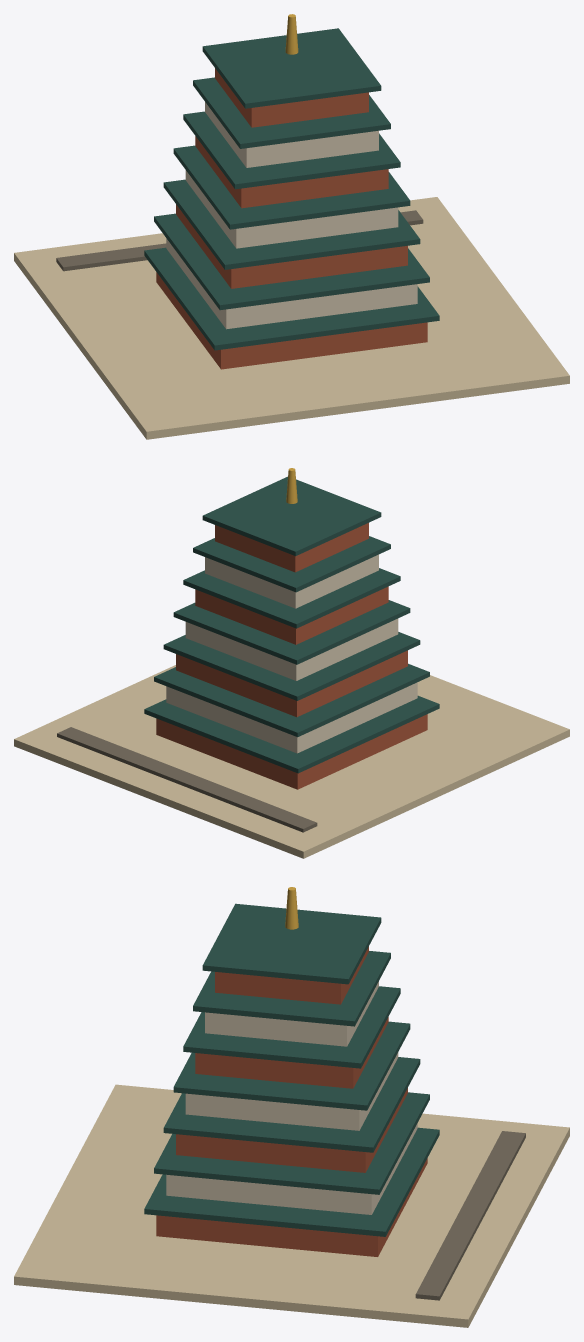
The model's file is model-medium.glb.
3 renders of one model, top to bottom at view 1: azimuth 30°, elevation 25°; view 2: azimuth 150°, elevation 25°; view 3: azimuth 270°, elevation 25°, orthographic. The views are drawn at different scales.
Parts seen in each view (by area): view 1: context_site_plinth, pagoda_eave_7, pagoda_eave_1, pagoda_eave_2, pagoda_eave_3, pagoda_eave_4, pagoda_eave_5, pagoda_storey_1, pagoda_eave_6, pagoda_storey_2, pagoda_storey_3, pagoda_storey_4 (+4 smaller); view 2: context_site_plinth, pagoda_eave_7, pagoda_eave_1, pagoda_eave_2, pagoda_eave_3, pagoda_eave_4, pagoda_storey_1, pagoda_storey_2, pagoda_eave_5, front_scale_strip, pagoda_storey_3, pagoda_eave_6 (+4 smaller); view 3: context_site_plinth, pagoda_eave_7, pagoda_eave_1, pagoda_eave_2, pagoda_eave_3, pagoda_eave_4, pagoda_eave_5, pagoda_storey_1, pagoda_eave_6, pagoda_storey_2, front_scale_strip, pagoda_storey_3 (+4 smaller).
Boxes of the visible parts, <box> form: context_site_plinth: <box>14,197,569,439</box>; pagoda_eave_7: <box>202,28,381,108</box>; pagoda_eave_1: <box>144,247,439,350</box>; pagoda_eave_2: <box>154,213,429,310</box>; pagoda_eave_3: <box>163,179,420,269</box>; pagoda_eave_4: <box>173,145,410,229</box>; pagoda_eave_5: <box>183,111,400,189</box>; pagoda_storey_1: <box>156,272,427,369</box>; pagoda_eave_6: <box>193,77,390,148</box>; pagoda_storey_2: <box>166,238,417,329</box>; pagoda_storey_3: <box>176,204,407,288</box>; pagoda_storey_4: <box>185,170,398,248</box>; context_site_plinth: <box>14,665,569,858</box>; pagoda_eave_7: <box>202,476,381,556</box>; pagoda_eave_1: <box>144,695,439,773</box>; pagoda_eave_2: <box>154,663,429,737</box>; pagoda_eave_3: <box>163,632,420,700</box>; pagoda_eave_4: <box>173,600,410,664</box>; pagoda_storey_1: <box>156,714,427,789</box>; pagoda_storey_2: <box>166,682,417,753</box>; pagoda_eave_5: <box>183,568,400,628</box>; front_scale_strip: <box>57,727,317,832</box>; pagoda_storey_3: <box>176,650,407,717</box>; pagoda_eave_6: <box>193,536,390,592</box>; context_site_plinth: <box>14,1084,569,1327</box>; pagoda_eave_7: <box>202,903,381,984</box>; pagoda_eave_1: <box>144,1127,439,1236</box>; pagoda_eave_2: <box>154,1092,429,1194</box>; pagoda_eave_3: <box>163,1057,420,1152</box>; pagoda_eave_4: <box>173,1021,410,1110</box>; pagoda_eave_5: <box>183,986,400,1068</box>; pagoda_storey_1: <box>156,1158,427,1256</box>; pagoda_eave_6: <box>193,951,390,1026</box>; pagoda_storey_2: <box>166,1123,417,1214</box>; front_scale_strip: <box>415,1131,525,1300</box>; pagoda_storey_3: <box>176,1088,407,1172</box>.
Size of the model in its own units: 9.55 by 6.1 by 9.55.
